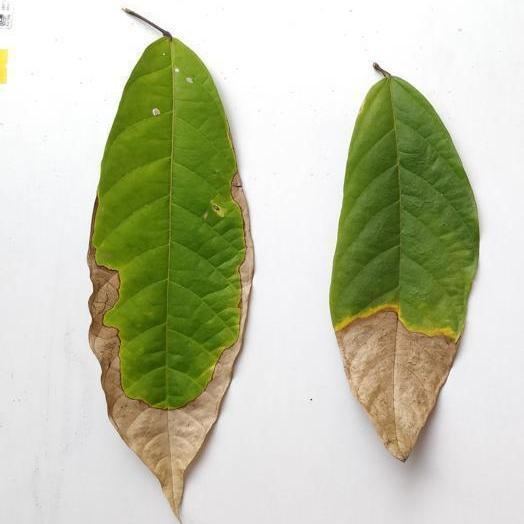Potassium: (88, 9, 253, 518), (330, 64, 478, 460)
